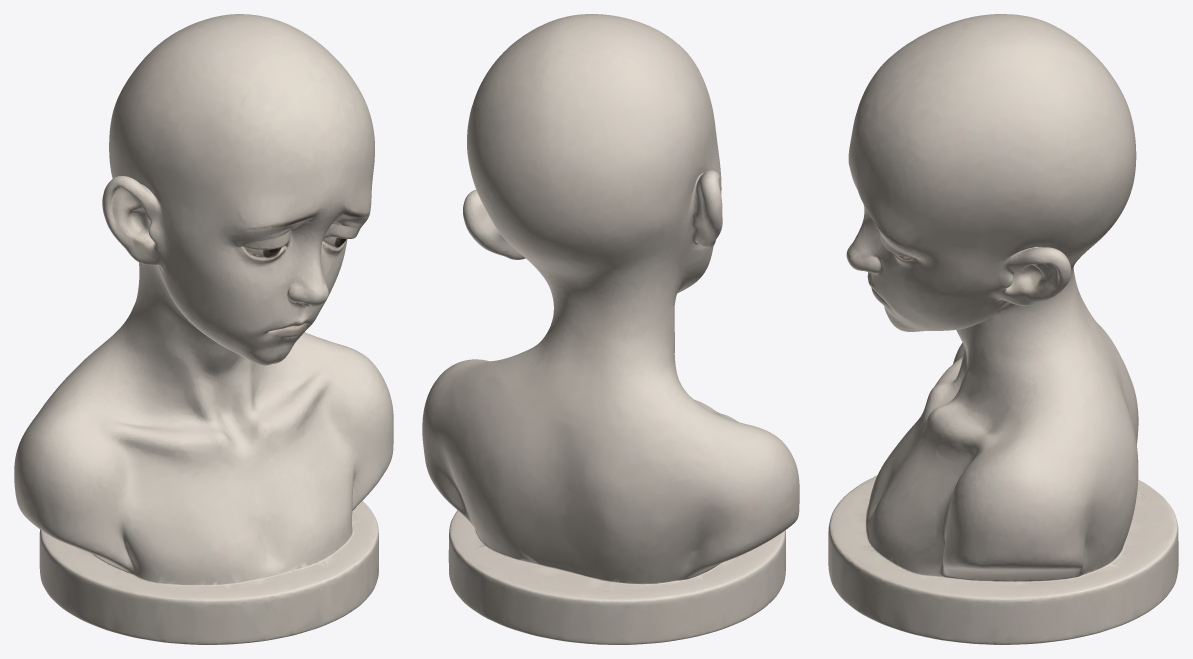
Rendered from wojak.glb.
3 views of the same model, side by side, from view 1: azimuth 30°, elevation 25°; view 2: azimuth 150°, elevation 25°; view 3: azimuth 270°, elevation 25° (orthographic). The views are drawn at different scales.
Visible parts, largest first — view 1: Mesh_0; view 2: Mesh_0; view 3: Mesh_0.
Part boxes in pixels (<box>): Mesh_0: <box>14,14,393,644</box>; Mesh_0: <box>422,14,799,644</box>; Mesh_0: <box>828,14,1178,644</box>.
Bounding box in the file's own units: 0.2072 × 0.3 × 0.1691.
Materials: 1 (1 with a texture image).
